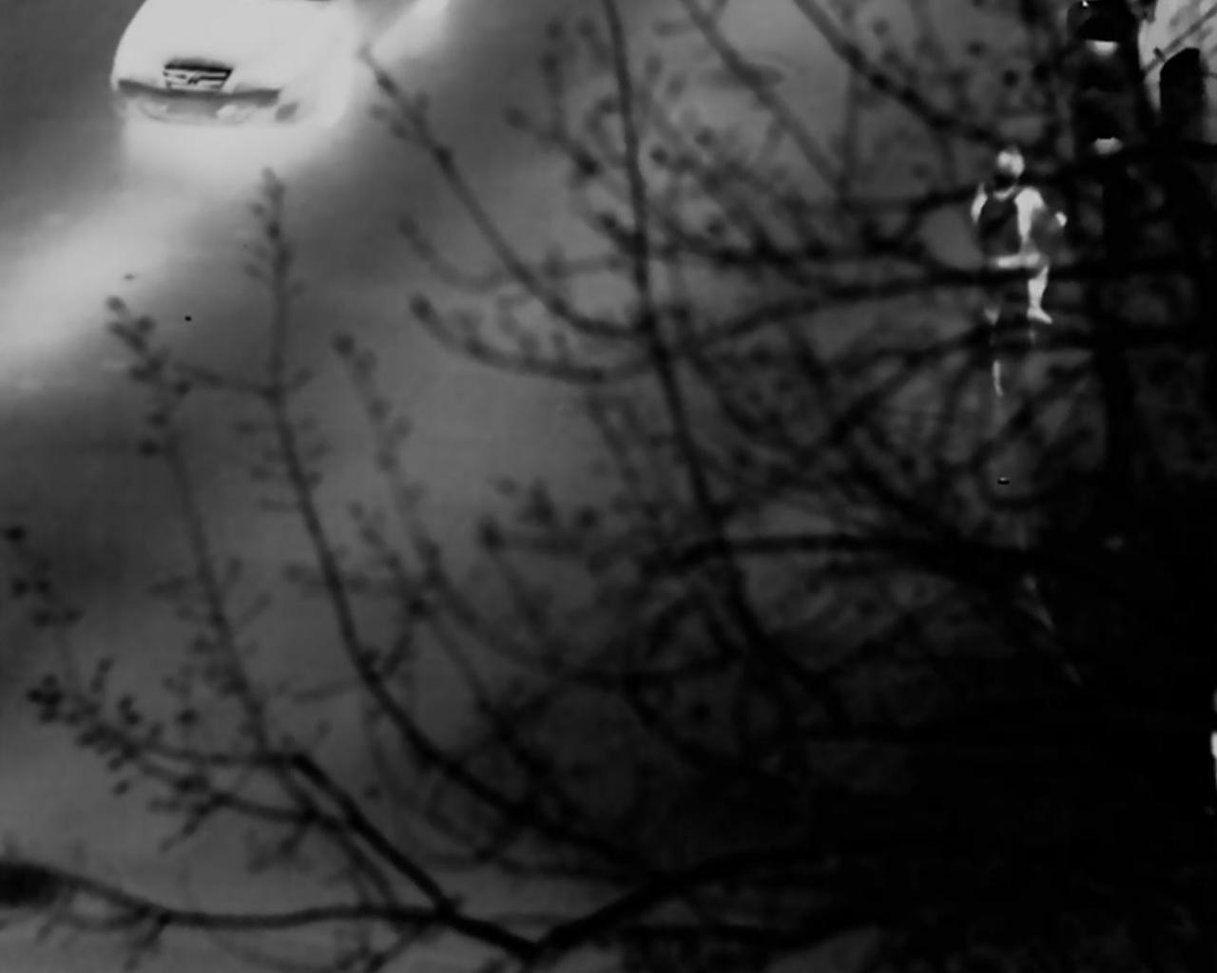person: (968, 138, 1054, 362)
